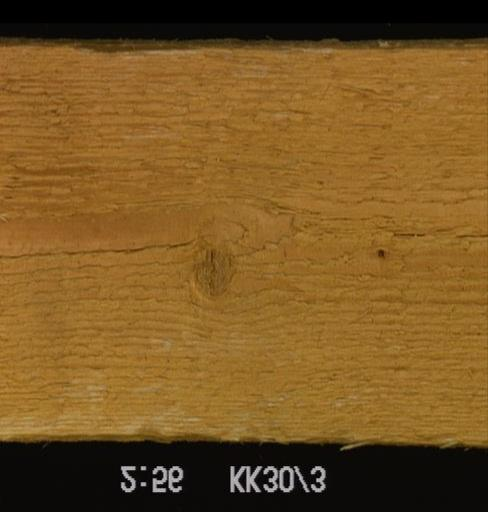small_knot: (370, 247, 389, 264)
split: (0, 230, 217, 257), (383, 229, 486, 241)
wave: (66, 38, 193, 71), (1, 426, 242, 441)
